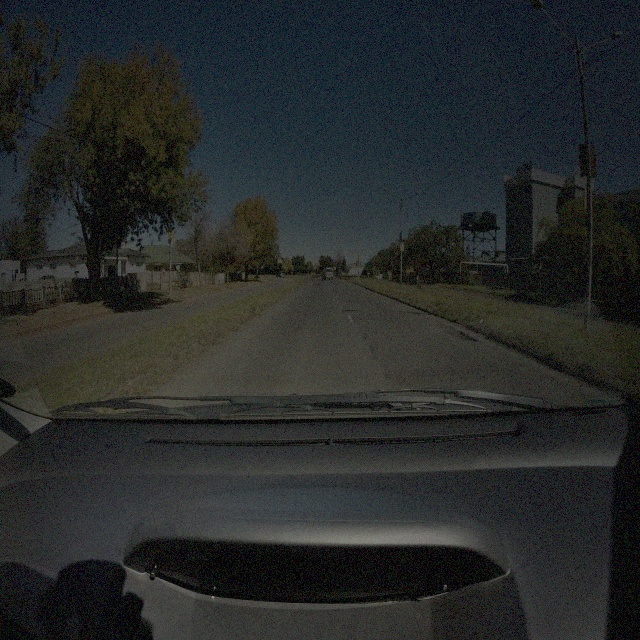pothole: (448, 326, 479, 346)
